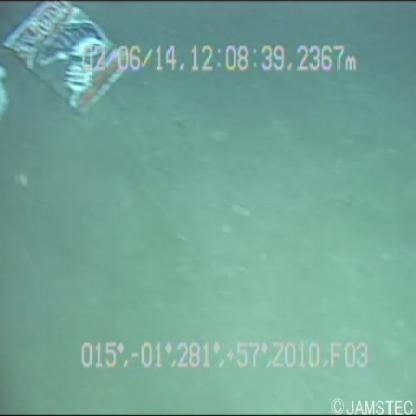Rác: (3, 1, 138, 123)
